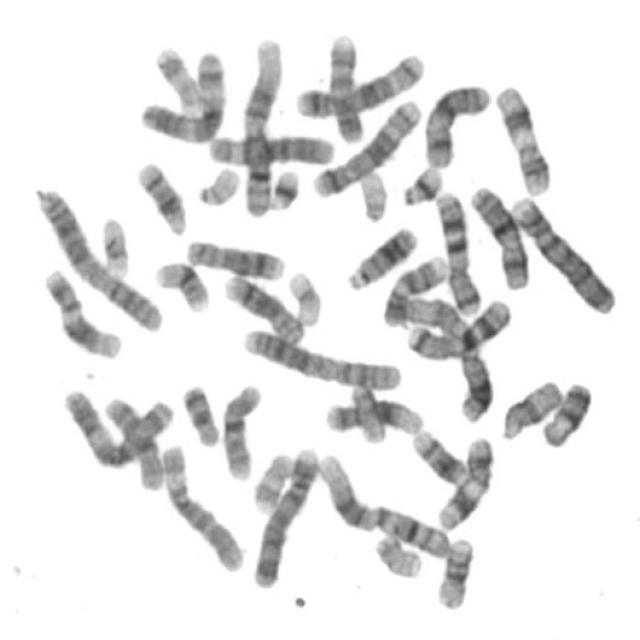A1: (312, 446, 454, 562), (235, 29, 285, 219)
A2: (29, 178, 165, 334), (236, 319, 404, 391)
A3: (57, 381, 174, 473), (132, 42, 228, 144)
B4: (504, 186, 618, 317), (244, 439, 321, 589)
B5: (305, 89, 424, 200), (288, 43, 428, 121)
C10: (96, 390, 166, 492), (214, 374, 264, 482)
C11: (488, 77, 553, 197), (430, 427, 496, 532)
C12: (36, 259, 125, 360), (318, 391, 425, 437)
C6: (154, 434, 246, 574), (199, 124, 338, 168)
C7: (398, 290, 514, 362), (427, 184, 483, 315)
C8: (217, 266, 307, 345), (179, 230, 286, 282)
C9: (376, 246, 449, 328), (321, 24, 367, 144)
D13: (340, 218, 420, 292), (453, 321, 494, 426)
D14: (130, 153, 188, 237), (406, 421, 470, 488)
D15: (494, 371, 566, 442), (534, 372, 595, 450)
E16: (148, 253, 212, 314), (430, 530, 477, 612)
E17: (147, 38, 203, 112), (251, 448, 298, 524)
E18: (392, 291, 474, 344), (175, 375, 222, 447)
F19: (280, 262, 325, 327), (93, 207, 132, 279)
F20: (368, 525, 426, 580), (343, 376, 388, 444)
G21: (394, 158, 444, 207), (262, 160, 302, 211)
G22: (190, 159, 242, 207), (351, 162, 390, 223)
X: (464, 177, 531, 291), (415, 74, 494, 170)
